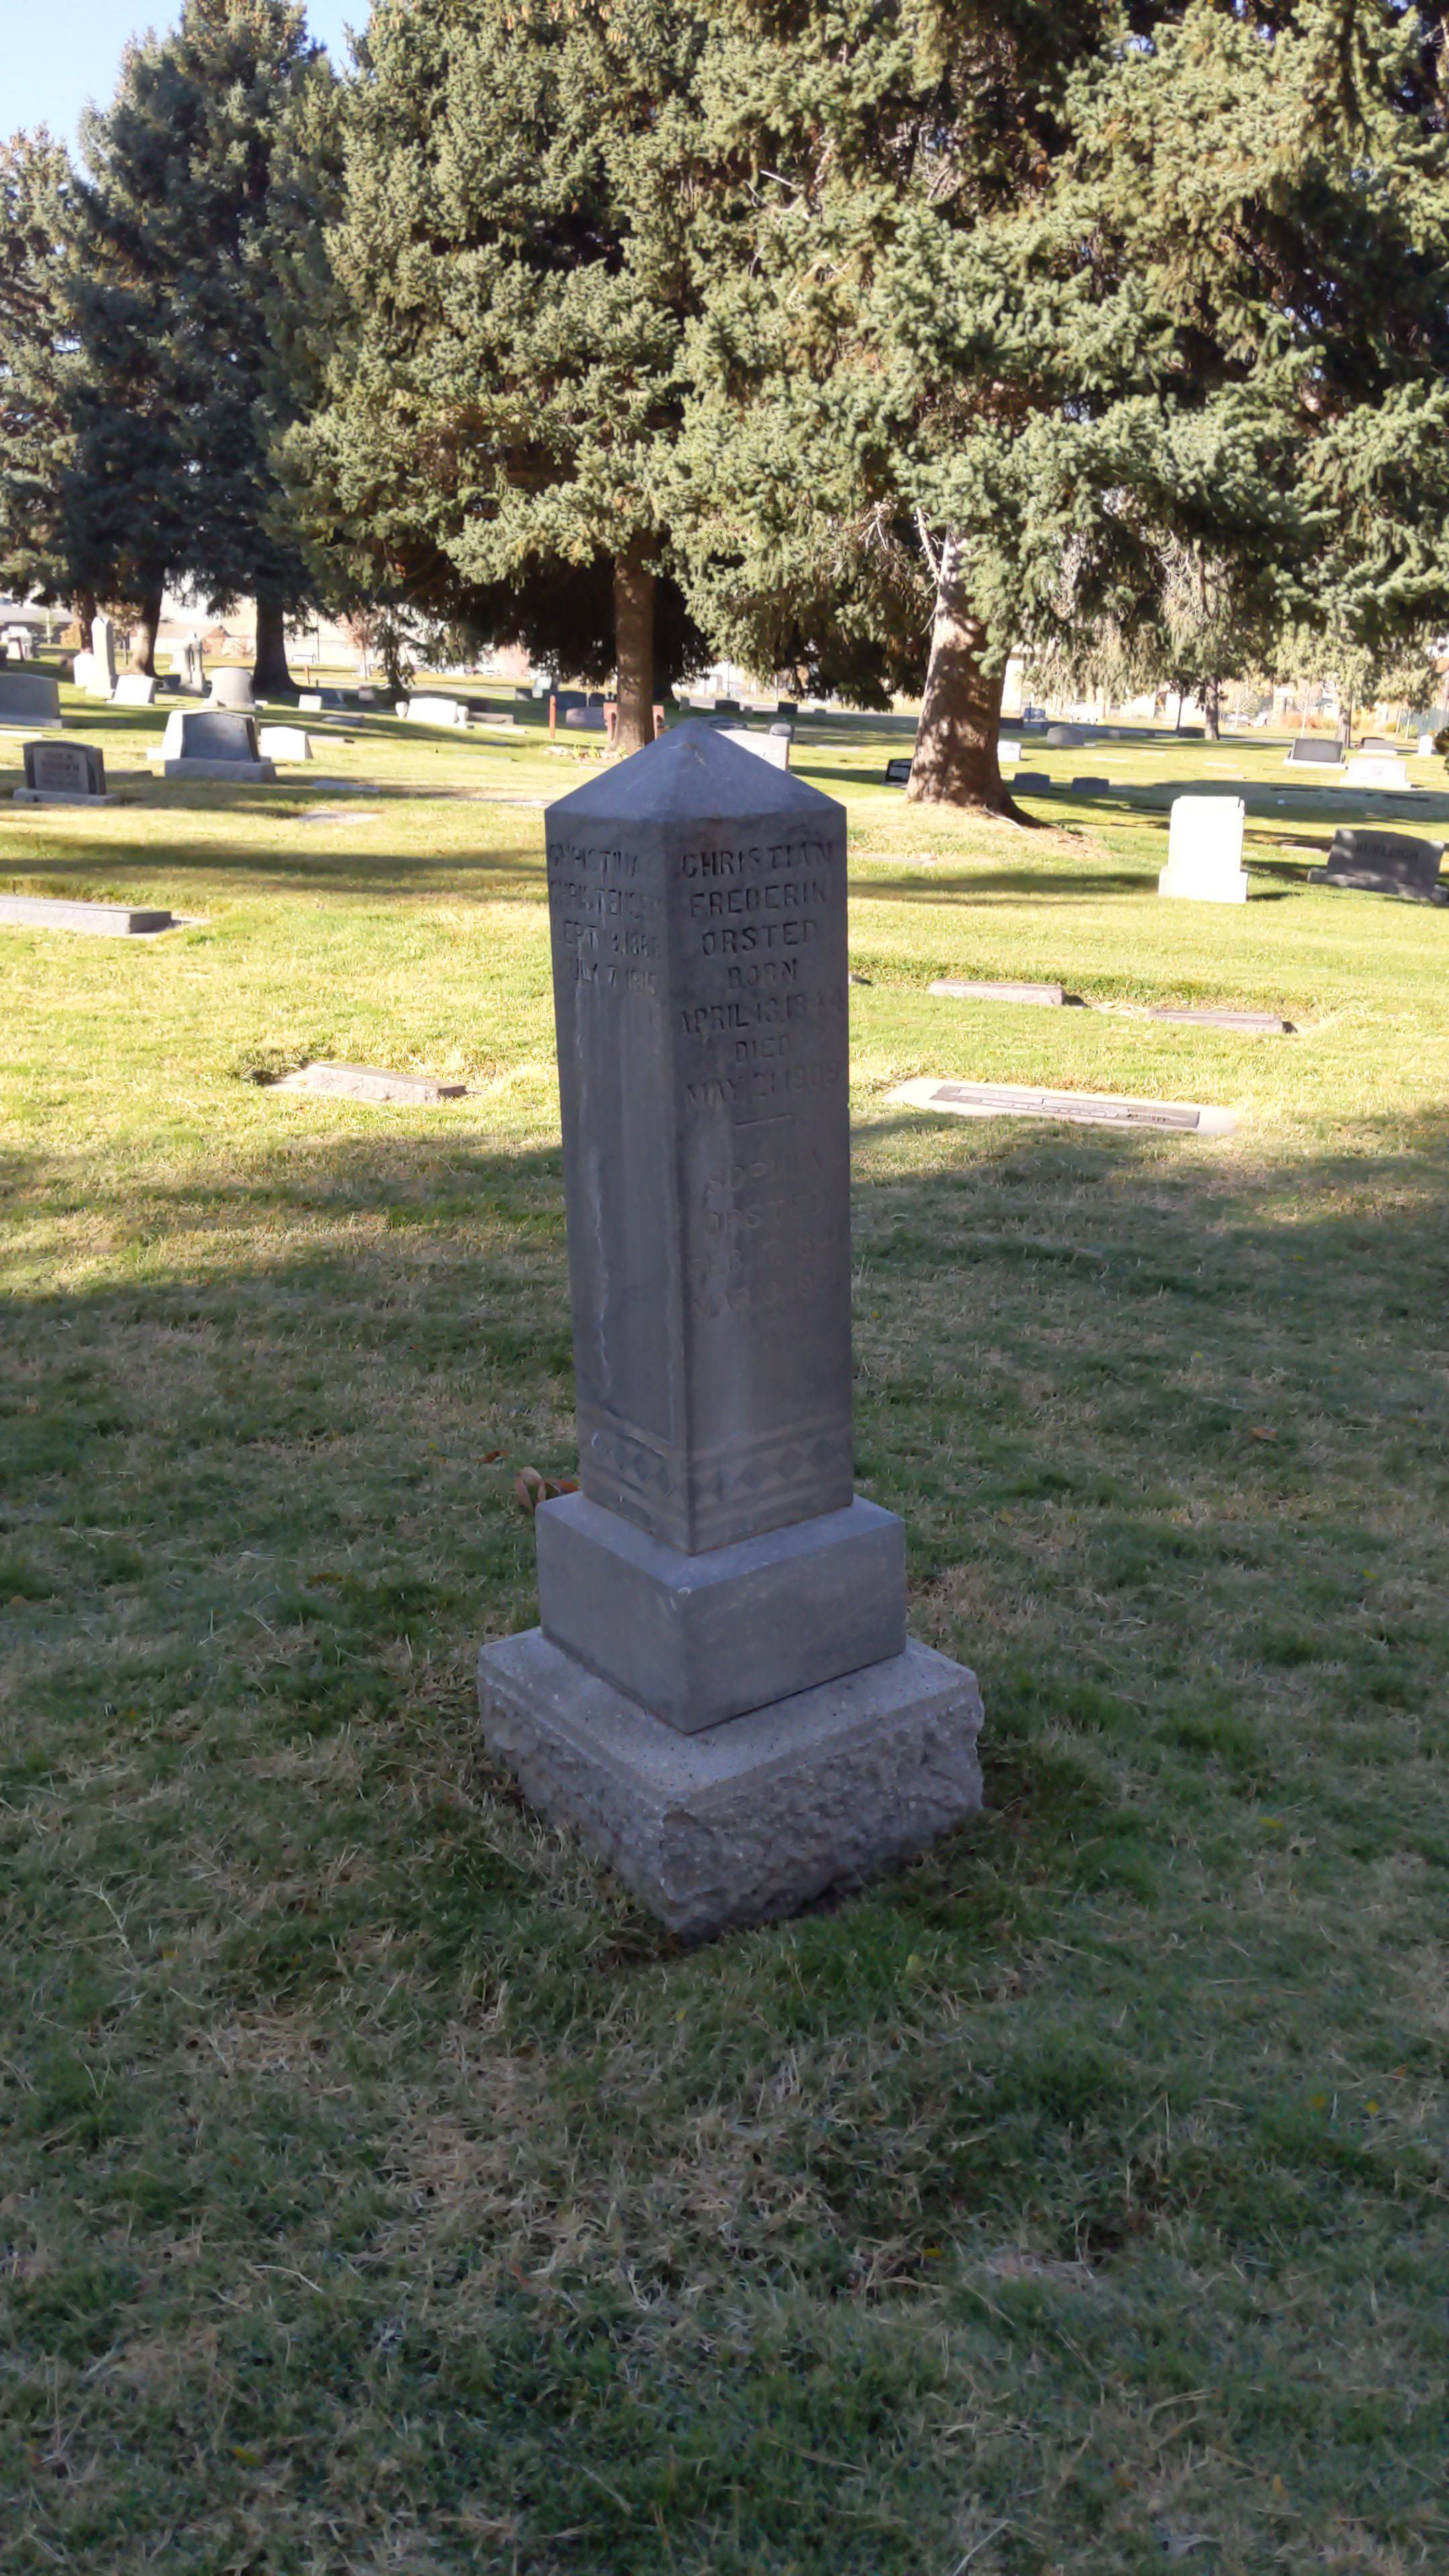obelisk: (527, 727, 906, 1713)
